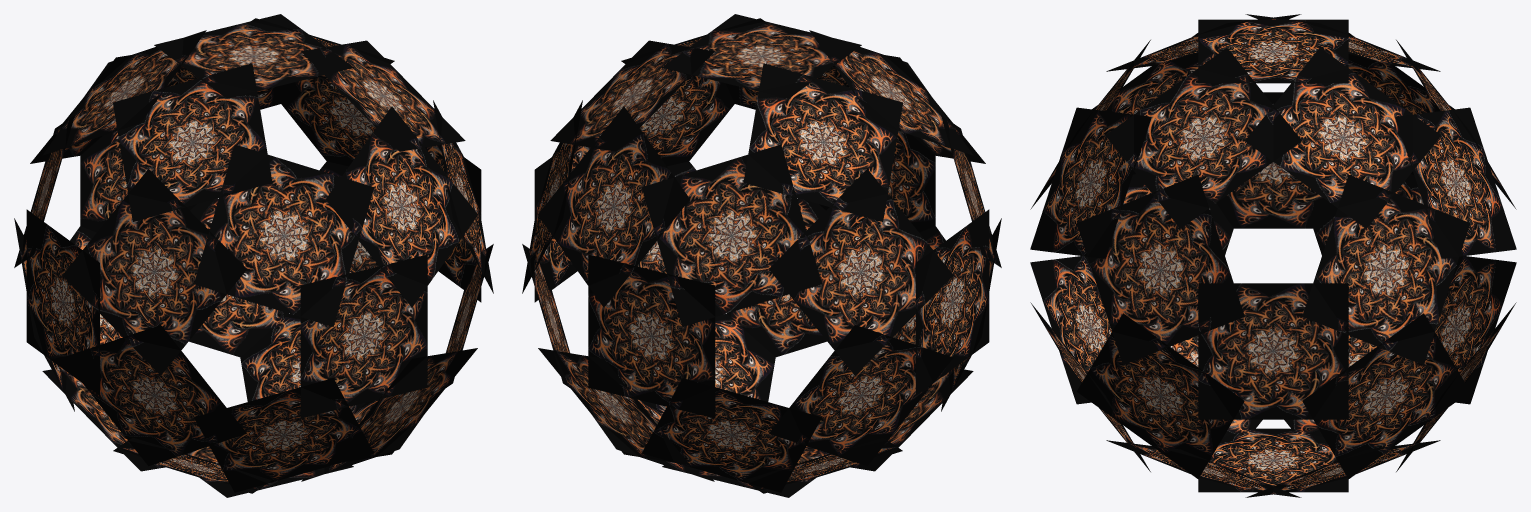
The model's file is 1TruncatedDodecadodecahedron.gltf.
The picture shows the model from 3 angles, left to right: view 1: azimuth 30°, elevation 25°; view 2: azimuth 150°, elevation 25°; view 3: azimuth 270°, elevation 25°; orthographic projection. The views are drawn at different scales.
Visible parts, largest first — view 1: 1TruncatedDodecadodecahedron; view 2: 1TruncatedDodecadodecahedron; view 3: 1TruncatedDodecadodecahedron.
Part boxes in pixels (x1,y1,x2,y2): 1TruncatedDodecadodecahedron: [14, 14, 493, 497]; 1TruncatedDodecadodecahedron: [522, 14, 1001, 497]; 1TruncatedDodecadodecahedron: [1030, 14, 1516, 497].
Size of the model in its own units: 3.24 by 3.24 by 3.24.
1 material, 1 textured.
